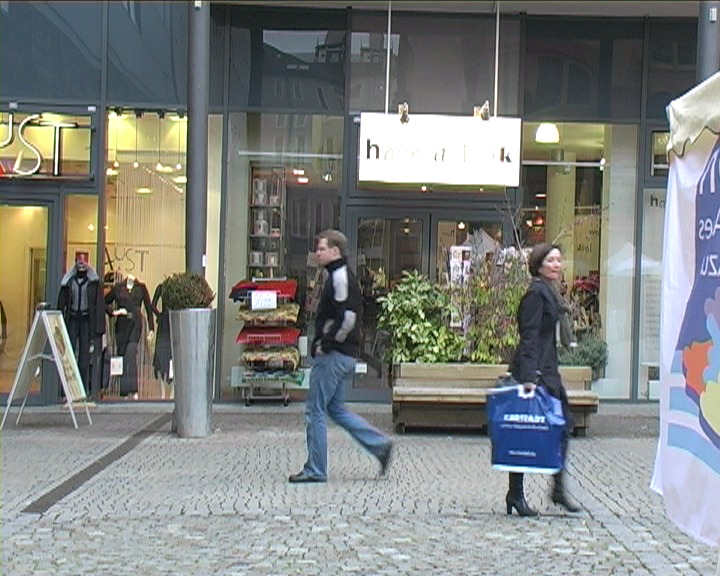deflection: (522, 241, 568, 355)
